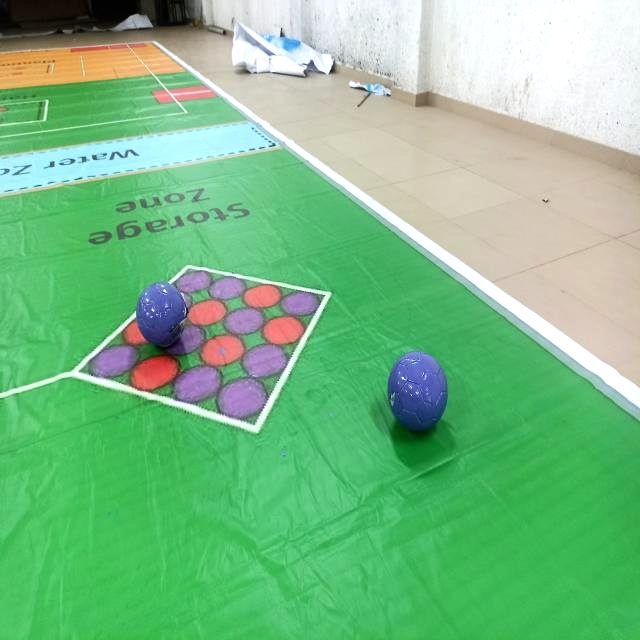purple_ball: (384, 349, 451, 434), (135, 279, 185, 347)
